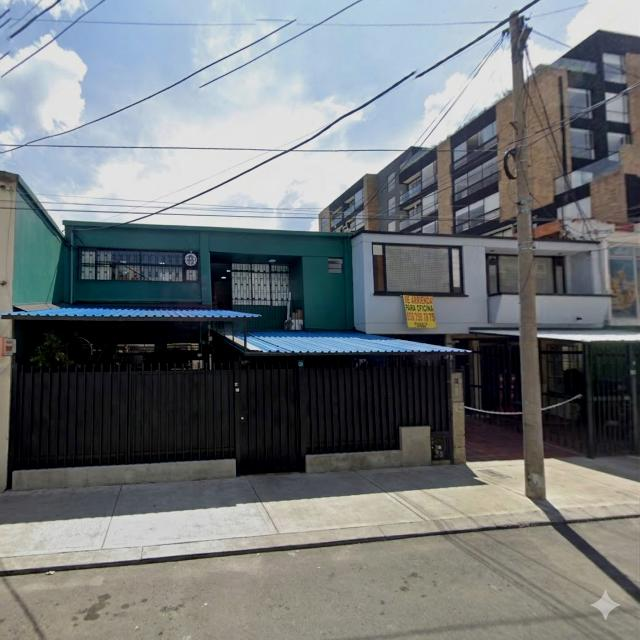fachada: (0, 173, 464, 490), (526, 31, 639, 227)
poste: (510, 12, 545, 499)
